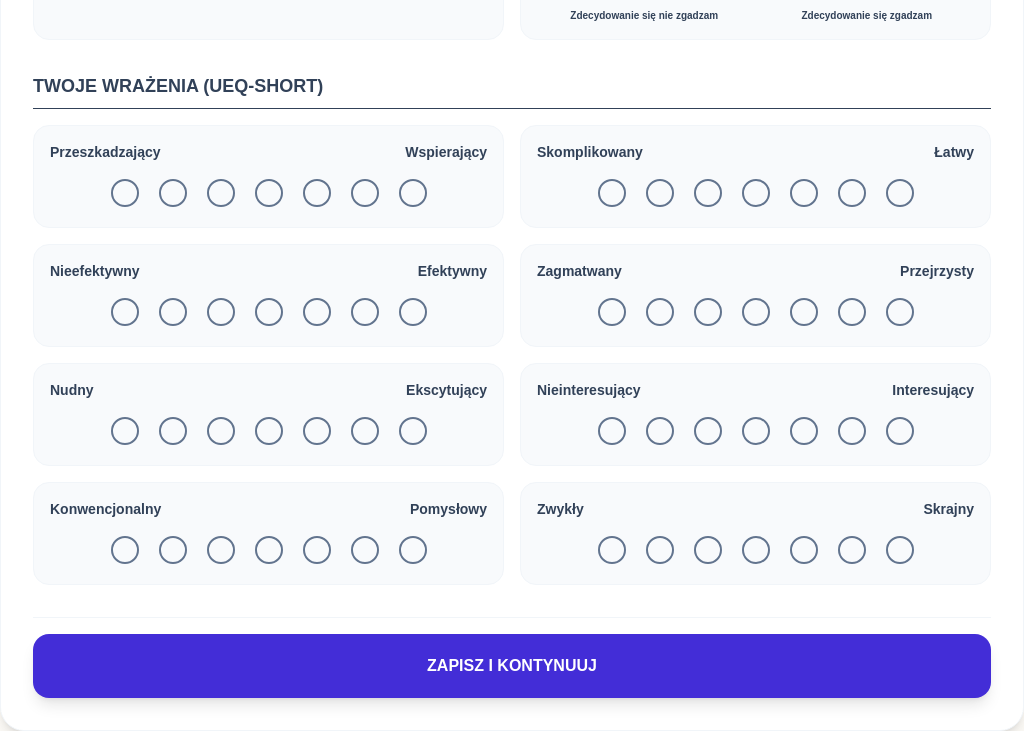
Test: SurveyComponent: no pre-filled answers, required items › blocks submission and reports every unanswered item accessibly
(page scrolled)
Click the submit button at (512, 666), box [33, 634, 991, 698]
(page scrolled)
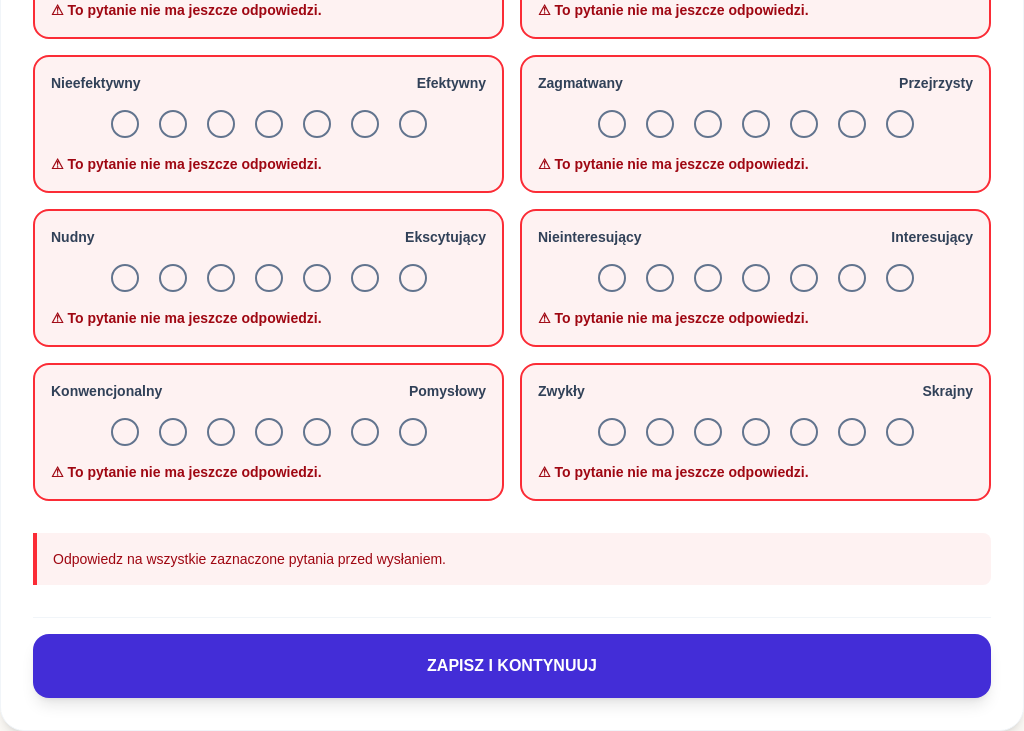
Now the message "Odpowiedz na wszystkie zaznaczone pytania przed wysłaniem." is shown, box [33, 533, 991, 585]
